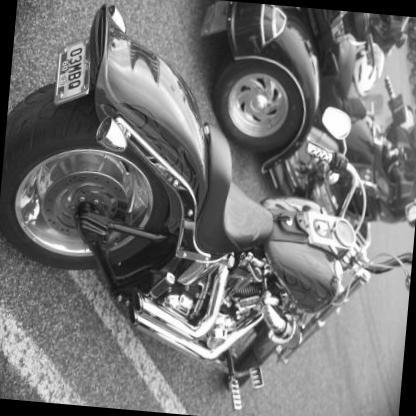moto: (1, 9, 416, 409)
